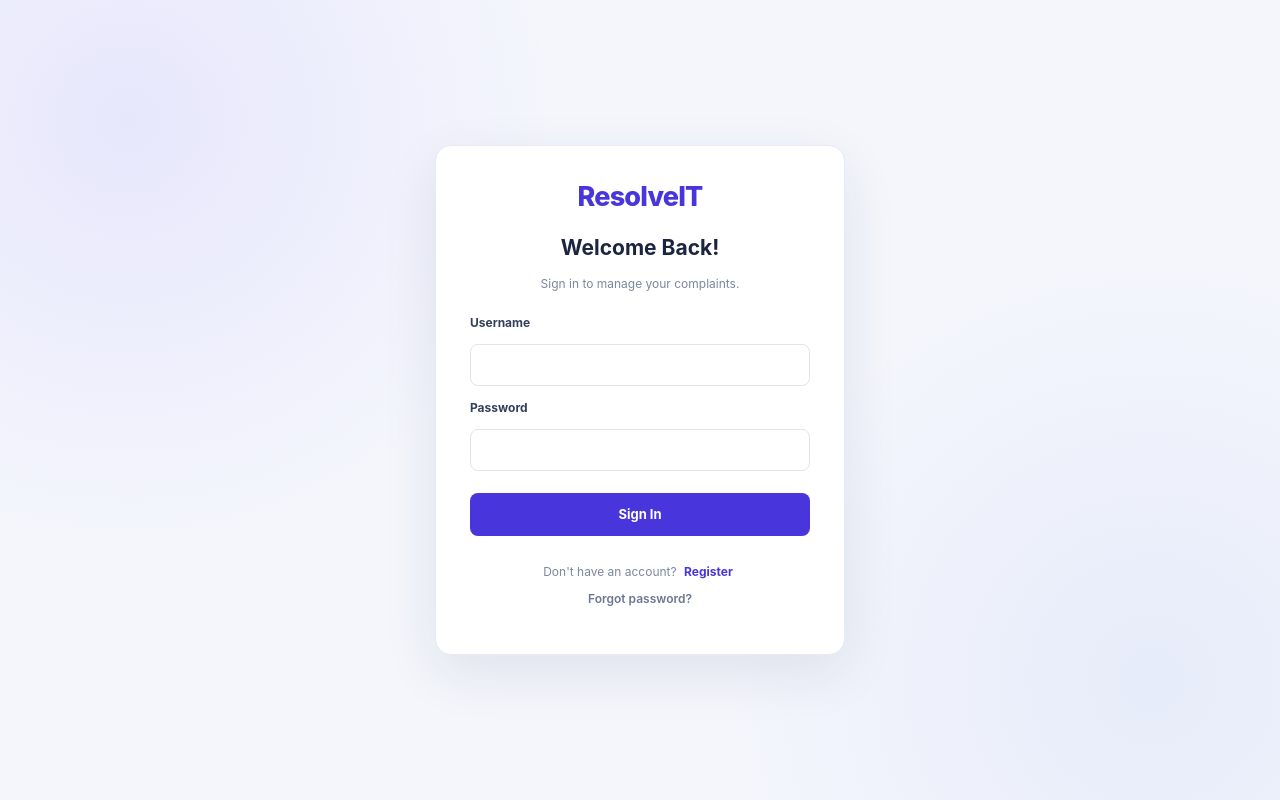
Test: Password Reset Workflows & Security › renders forgot password form and submits request with generic confirmation
Note: Switch to forgot password mode
Click the button "Forgot password?": (640, 599) [584,585,696,612]
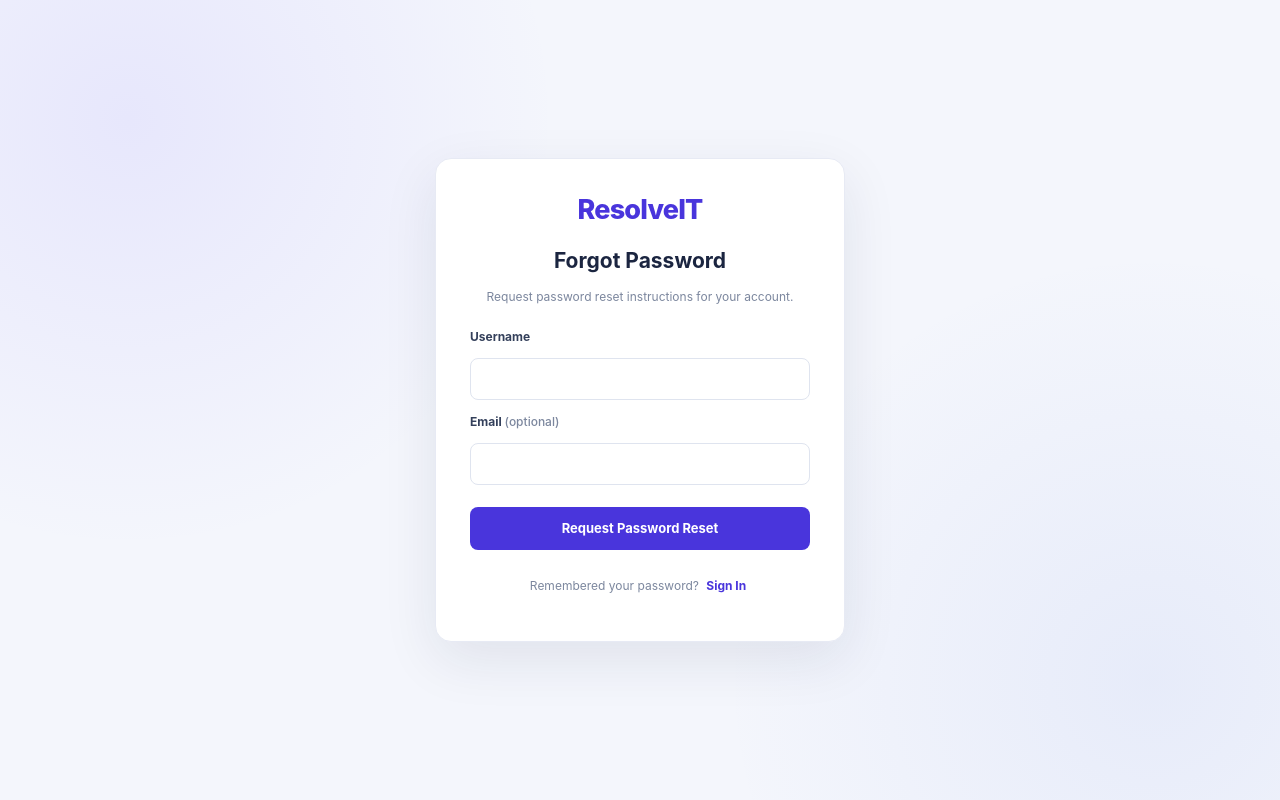
expect the heading "Forgot Password" is shown: met, box [554,248,726,273]
In the field labelled "Username": (640, 378) [470,358,810,400], type "alice"
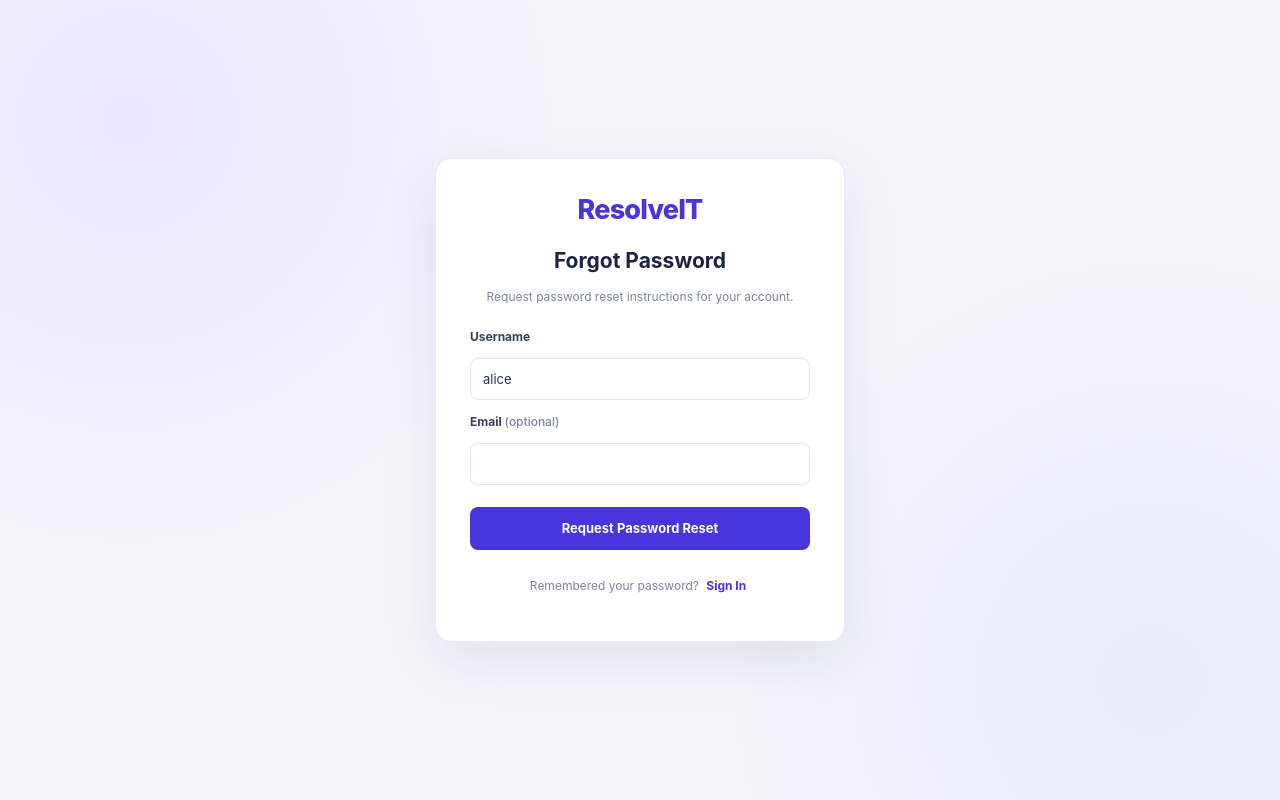
In the field labelled "Email (optional)": (640, 464) [470,442,810,484], type "alice@example.com"
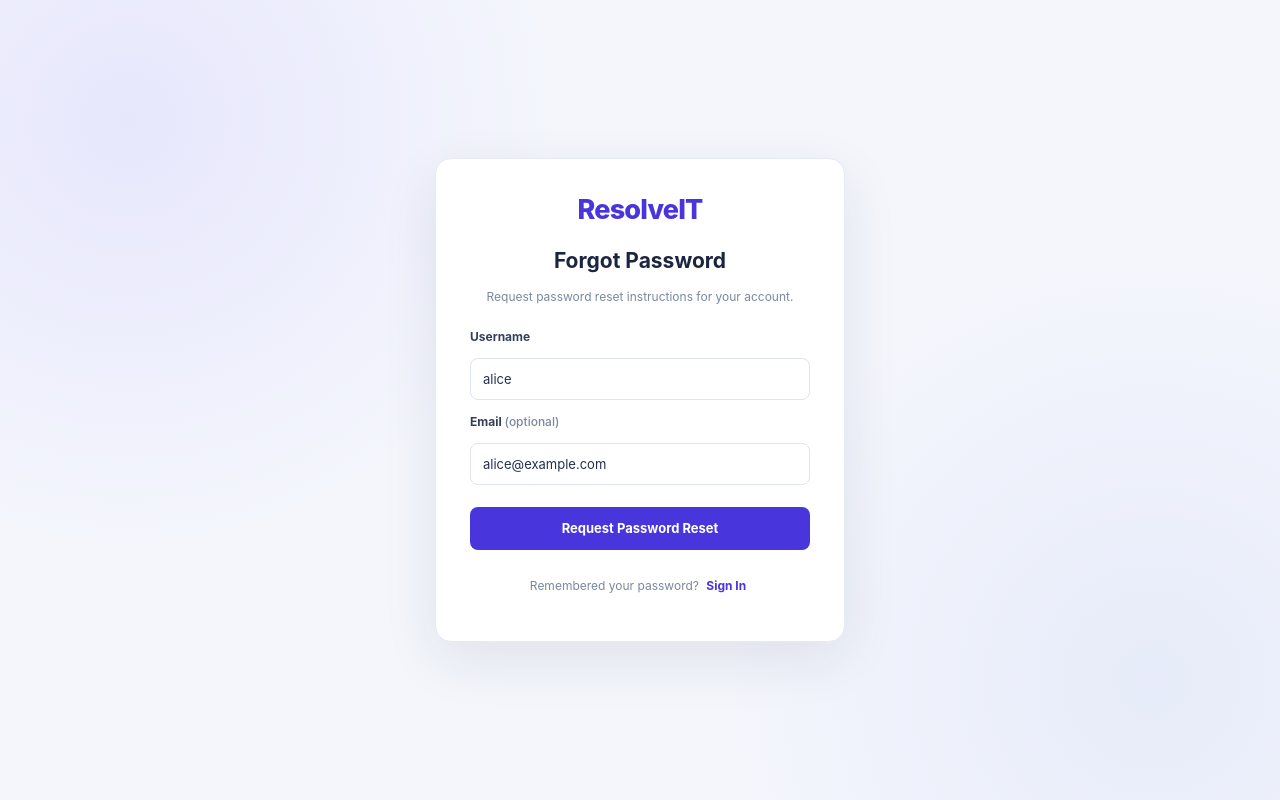
Click the button "Request Password Reset": (640, 528) [470,506,810,550]
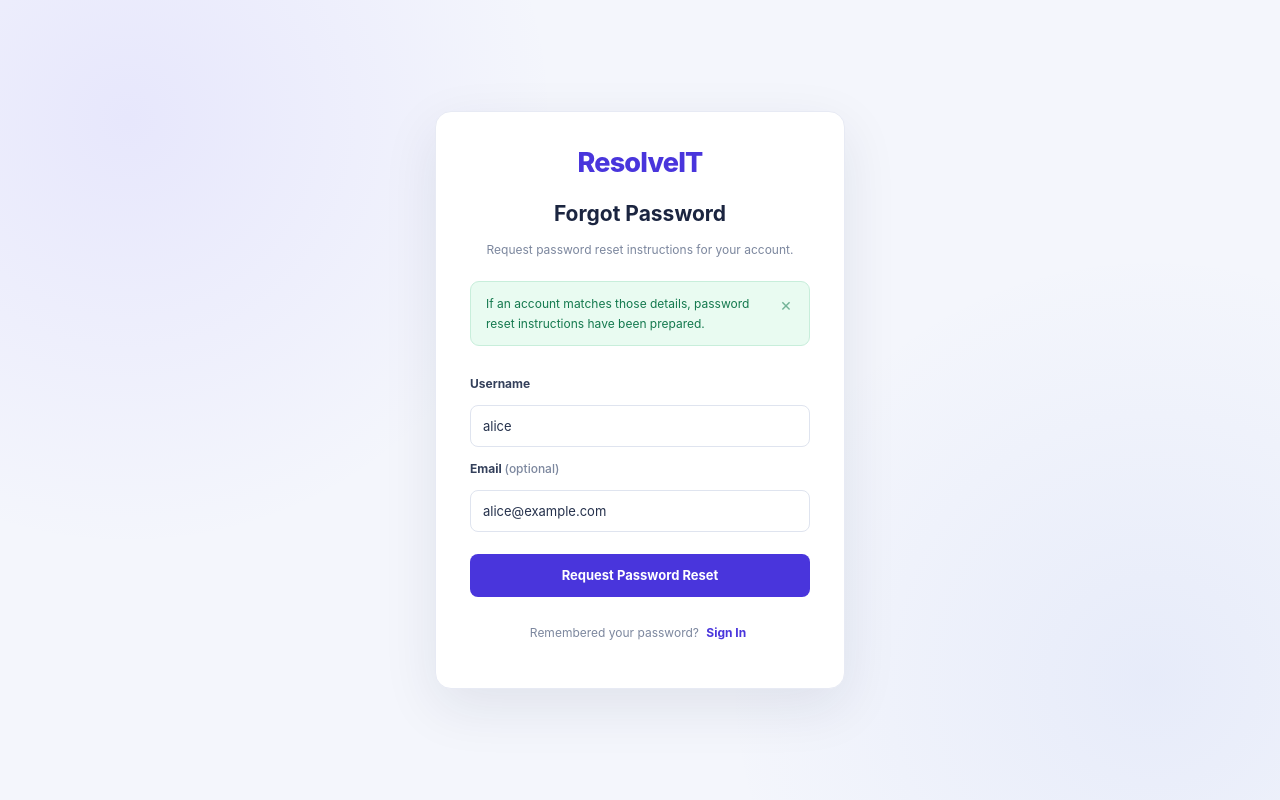
expect the text "If an account matches those details, password reset instructions have been prepared." is shown: met, box [486,296,749,330]
